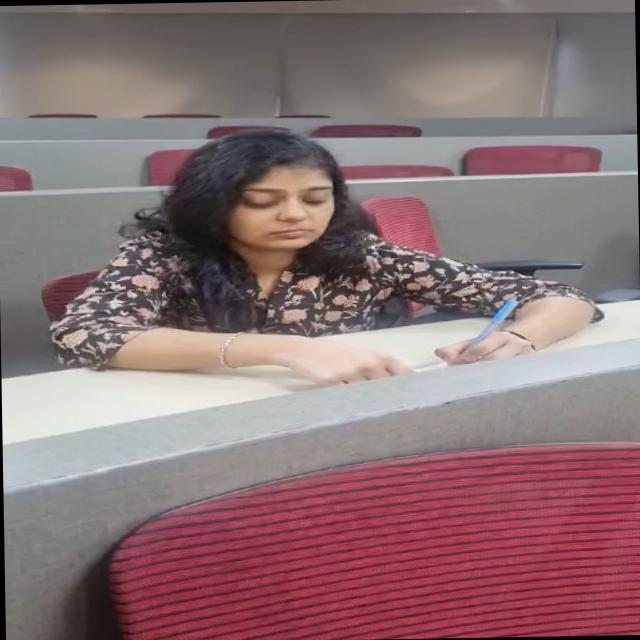non-cheating: (9, 70, 453, 400)
